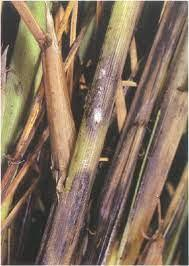Stem Rot: (47, 161, 96, 266), (80, 41, 121, 147), (122, 73, 155, 154), (153, 0, 186, 71)
